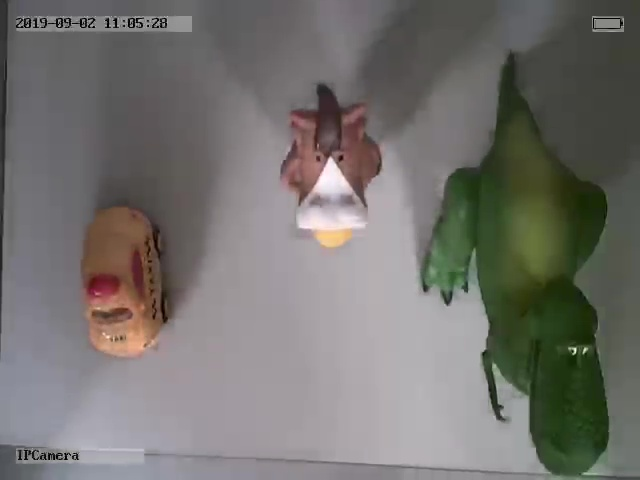car: (78, 203, 170, 357)
horse: (278, 82, 384, 247)
rex: (421, 73, 609, 476)
